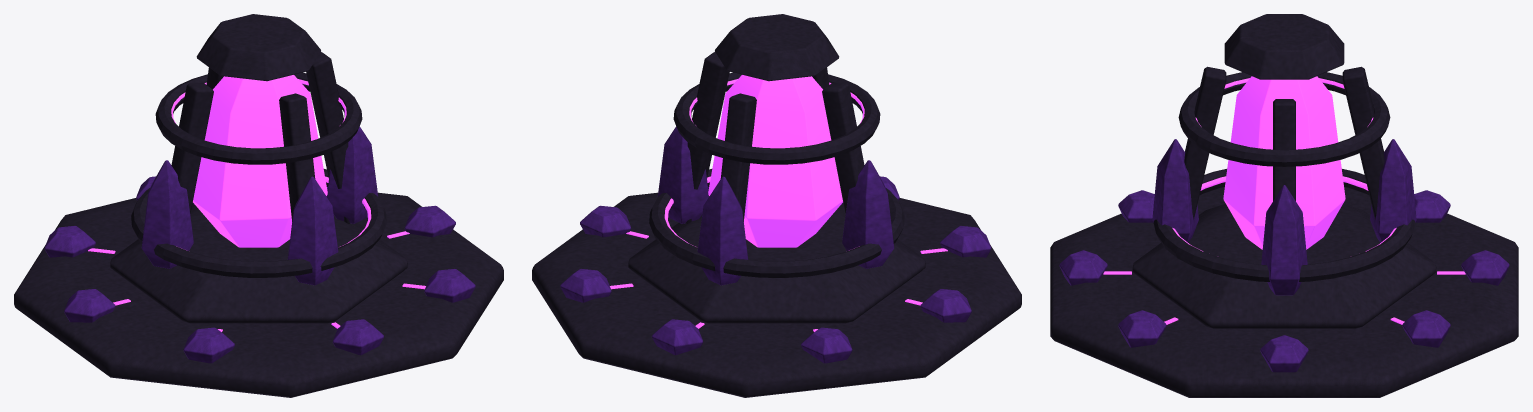
File: conclave_cuve_d_energie_vive.gltf
3 renders of one model, left to right at view 1: azimuth 30°, elevation 25°; view 2: azimuth 150°, elevation 25°; view 3: azimuth 270°, elevation 25°, orthographic. The views are drawn at different scales.
Visible parts, largest first — view 1: Root.001_Geometry; view 2: Root.001_Geometry; view 3: Root.001_Geometry.
Part boxes in pixels (box(x1,y1,x2,y2)): Root.001_Geometry: box(14, 14, 503, 397); Root.001_Geometry: box(532, 14, 1021, 397); Root.001_Geometry: box(1050, 14, 1518, 397).
Size of the model in its own units: 3.92 by 2.48 by 3.92.
3 materials, 2 textured.
